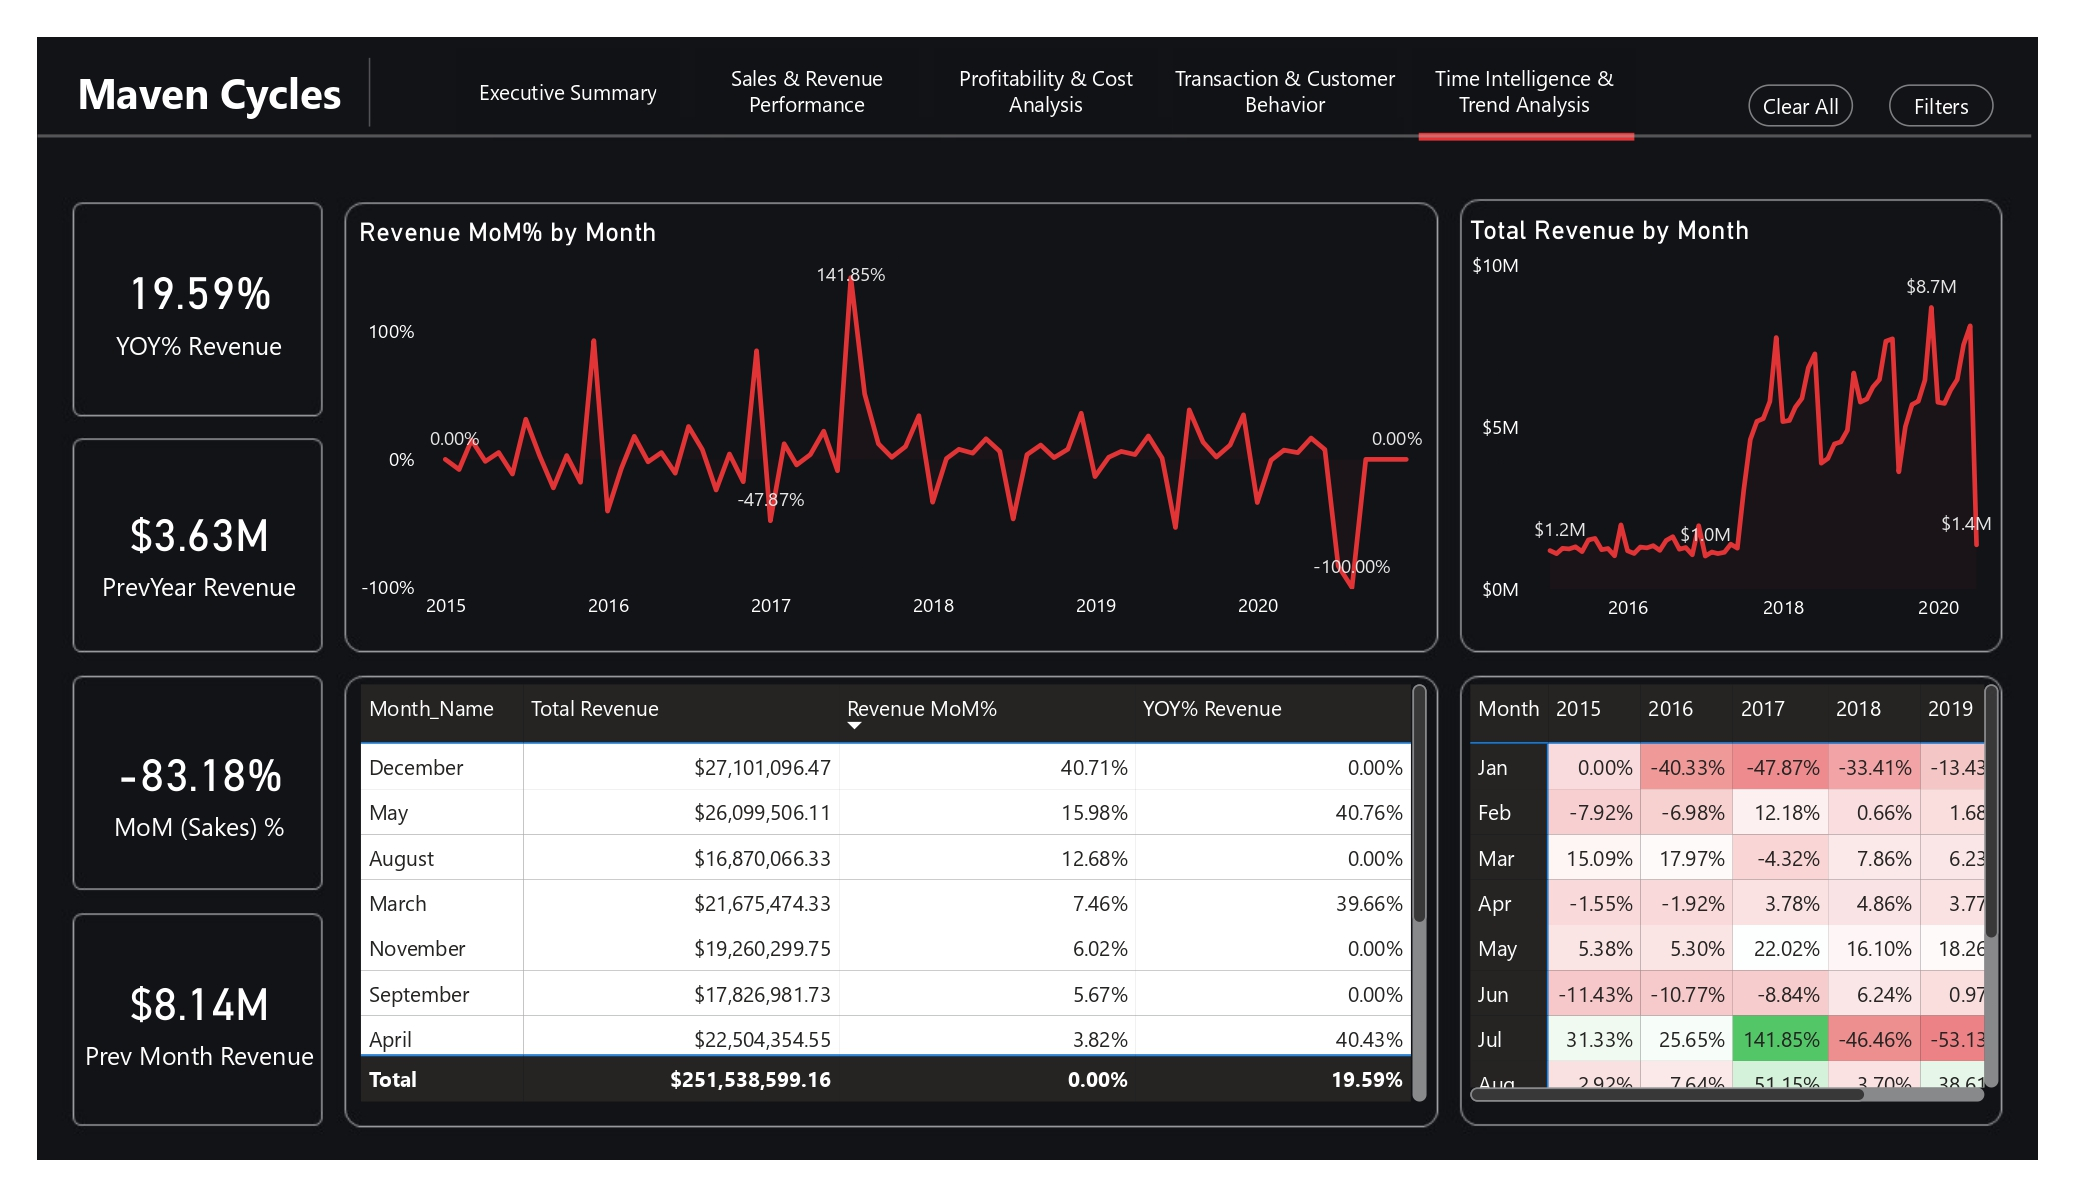

Layout of this report page (visuals, bound fields, positions):
{"tool":"powerbi","page":{"name":"Time Intelligence & Trend Analysis","canvas":[1280,720],"ordinal":4},"visuals":[{"type":"pageNavigator","box":[291.9,51.4,732.8,14.9],"z":0,"group":"g1"},{"type":"card","fields":{"Values":["Measure_Table.YOY% Revenue"]},"box":[19.6,101.8,167.9,141.1],"z":0},{"type":"pageNavigator","box":[268.1,7.4,756.7,53.7],"z":1000,"group":"g1"},{"type":"card","fields":{"Values":["Measure_Table.MoM (Sales)Card %"]},"box":[19.6,408.9,167.9,142.9],"z":1000},{"type":"card","fields":{"Values":["Measure_Table.Previous Month Revenue Card"]},"box":[19.6,551.8,167.9,150],"z":2000},{"type":"card","fields":{"Values":["Measure_Table.Previous Year Revenue Card"]},"box":[19.6,260.7,167.9,132.1],"z":3000},{"type":"lineChart","fields":{"Category":["DimCalendar.Start_of_Month"],"Y":["Measure_Table.Revenue MoM%"]},"box":[201.1,114.4,693.3,267.8],"z":4000},{"type":"areaChart","fields":{"Category":["DimCalendar.Start_of_Month"],"Y":["Measure_Table.Total Revenue"]},"box":[911.6,113,347.8,269.6],"z":5000},{"type":"tableEx","fields":{"Values":["DimCalendar.Month_Name","Measure_Table.Total Revenue","Measure_Table.Revenue MoM%","Measure_Table.YOY% Revenue"]},"box":[201.4,408.7,692.8,276.8],"z":6000},{"type":"actionButton","box":[21.4,4.3,201.2,61.4],"z":7000},{"type":"shape","box":[191.5,12.8,42.6,44.7],"z":8000},{"type":"group","id":"g1","title":"Group 1","box":[268.1,7.4,756.7,59],"z":9000},{"type":"pivotTable","fields":{"Columns":["DimCalendar.Year"],"Rows":["DimCalendar.Month_Short_Nm"],"Values":["Measure_Table.Revenue MoM%"]},"box":[912,409,348,277],"z":10000},{"type":"actionButton","box":[1184.6,29.9,67.2,26.9],"z":11000},{"type":"actionButton","box":[1095,29.9,67.2,26.9],"z":12000},{"type":"shape","box":[0,56.4,1275.5,13.8],"z":15001}]}

Visuals, with their boxes on the page's 1280x720 design canvas (x1, y1, x2, y2). These are canvas units, not pixel positions in the 2075x1200 screenshot, which may show the page scaled, cropped or inside an application window:
pageNavigator: (292, 51, 1025, 66)
card - Measure_Table.YOY% Revenue: (20, 102, 188, 243)
pageNavigator: (268, 7, 1025, 61)
card - Measure_Table.MoM (Sales)Card %: (20, 409, 188, 552)
card - Measure_Table.Previous Month Revenue Card: (20, 552, 188, 702)
card - Measure_Table.Previous Year Revenue Card: (20, 261, 188, 393)
lineChart - DimCalendar.Start_of_Month x Measure_Table.Revenue MoM%: (201, 114, 894, 382)
areaChart - DimCalendar.Start_of_Month x Measure_Table.Total Revenue: (912, 113, 1259, 383)
tableEx - DimCalendar.Month_Name x Measure_Table.Total Revenue: (201, 409, 894, 686)
actionButton: (21, 4, 223, 66)
shape: (192, 13, 234, 58)
"Group 1" group: (268, 7, 1025, 66)
pivotTable - DimCalendar.Year x DimCalendar.Month_Short_Nm: (912, 409, 1260, 686)
actionButton: (1185, 30, 1252, 57)
actionButton: (1095, 30, 1162, 57)
shape: (0, 56, 1276, 70)
